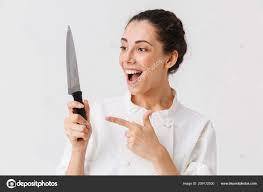Knife: (65, 24, 87, 139)
